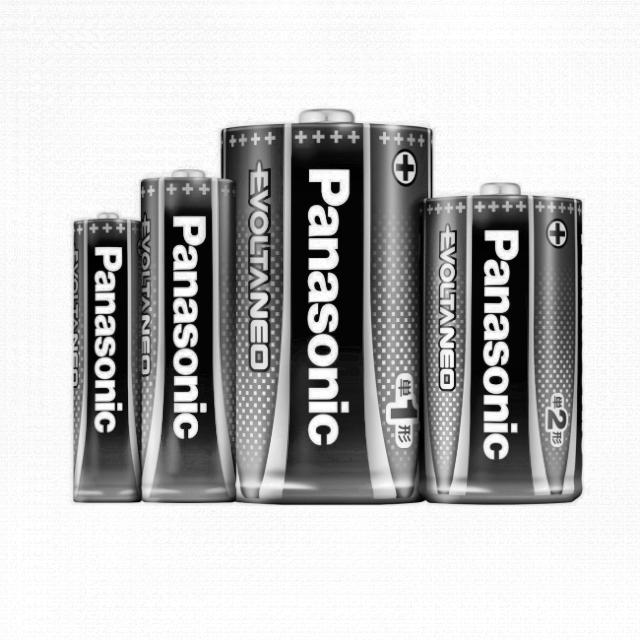drycell: (216, 98, 439, 510), (419, 179, 604, 509), (136, 163, 240, 504), (68, 212, 143, 504)
